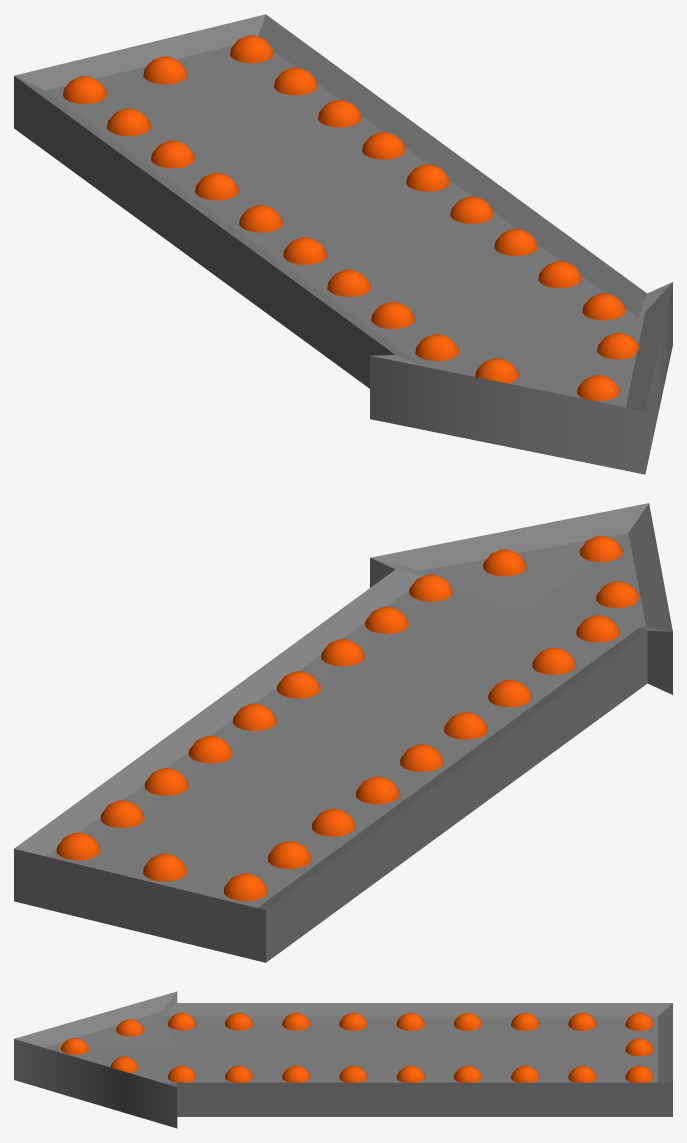
File: Arrow.fbx
The picture shows the model from 3 angles, top to bottom: view 1: azimuth 30°, elevation 25°; view 2: azimuth 150°, elevation 25°; view 3: azimuth 270°, elevation 25°; orthographic projection. The views are drawn at different scales.
Visible parts, largest first — view 1: Box001, Sphere019, Sphere017, Sphere009, Sphere016, Sphere018, Sphere008, Sphere007, Sphere014, Sphere015, Sphere006, Sphere013 (+11 smaller); view 2: Box001, Sphere009, Sphere018, Sphere019, Sphere016, Sphere008, Sphere015, Sphere017, Sphere006, Sphere007, Sphere014, Sphere013 (+11 smaller); view 3: Box001, Sphere019, Sphere015, Sphere018, Sphere016, Sphere017, Sphere013, Sphere014, Sphere011, Sphere012, Sphere010, Sphere007 (+11 smaller).
Boxes of the visible parts, x1,y1,x2,y2 form: Box001: (14, 14, 672, 474); Sphere019: (143, 56, 187, 84); Sphere017: (107, 108, 151, 136); Sphere009: (230, 35, 274, 63); Sphere016: (151, 140, 195, 168); Sphere018: (63, 76, 107, 103); Sphere008: (274, 67, 318, 95); Sphere007: (318, 100, 362, 127); Sphere014: (239, 205, 283, 232); Sphere015: (195, 173, 239, 200); Sphere006: (362, 132, 406, 159); Sphere013: (283, 237, 327, 264); Box001: (14, 503, 672, 962); Sphere009: (56, 832, 100, 860); Sphere018: (223, 873, 267, 901); Sphere019: (143, 853, 187, 881); Sphere016: (312, 808, 355, 836); Sphere008: (100, 800, 144, 827); Sphere015: (356, 776, 399, 804); Sphere017: (267, 841, 311, 868); Sphere006: (188, 735, 232, 763); Sphere007: (144, 768, 188, 795); Sphere014: (400, 744, 443, 771); Sphere013: (444, 712, 488, 739); Box001: (14, 991, 672, 1128); Sphere019: (625, 1038, 654, 1056); Sphere015: (453, 1012, 482, 1030); Sphere018: (625, 1012, 654, 1030); Sphere016: (511, 1012, 539, 1030); Sphere017: (568, 1012, 596, 1030); Sphere013: (339, 1012, 368, 1030); Sphere014: (396, 1012, 425, 1030); Sphere011: (225, 1012, 253, 1030); Sphere012: (282, 1012, 310, 1030); Sphere010: (167, 1012, 196, 1030); Sphere007: (511, 1065, 539, 1082).
Bounding box in the file's own units: 21.63 × 4.32 × 62.72.
